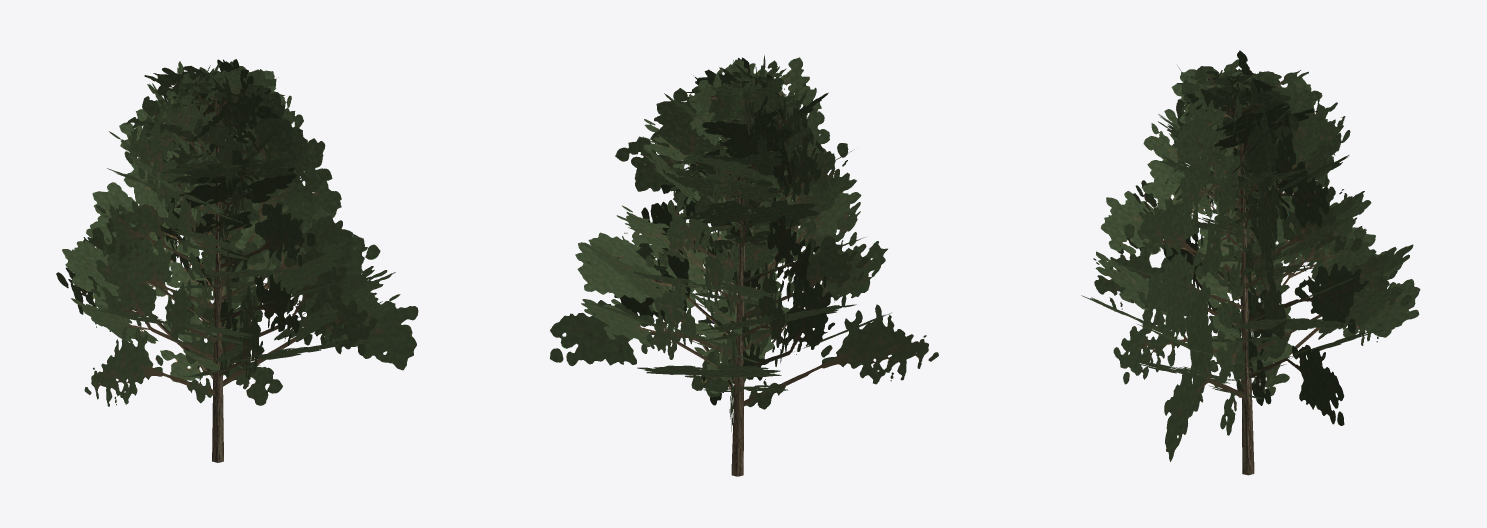
The model's file is tree-01.glb.
3 views of the same model, side by side, from view 1: azimuth 30°, elevation 25°; view 2: azimuth 150°, elevation 25°; view 3: azimuth 270°, elevation 25° (orthographic).
Parts seen in each view (by area): view 1: Tilia_europaea_50y_01_LoD2A_summer_obj0_trunk; view 2: Tilia_europaea_50y_01_LoD2A_summer_obj0_trunk; view 3: Tilia_europaea_50y_01_LoD2A_summer_obj0_trunk.
Boxes of the visible parts, x1,y1,x2,y2 form: Tilia_europaea_50y_01_LoD2A_summer_obj0_trunk: (56, 59, 418, 462); Tilia_europaea_50y_01_LoD2A_summer_obj0_trunk: (550, 55, 938, 476); Tilia_europaea_50y_01_LoD2A_summer_obj0_trunk: (1081, 50, 1420, 475).
Size of the model in its own units: 13.13 by 13.69 by 11.74.
Materials: 1 (1 with a texture image).
